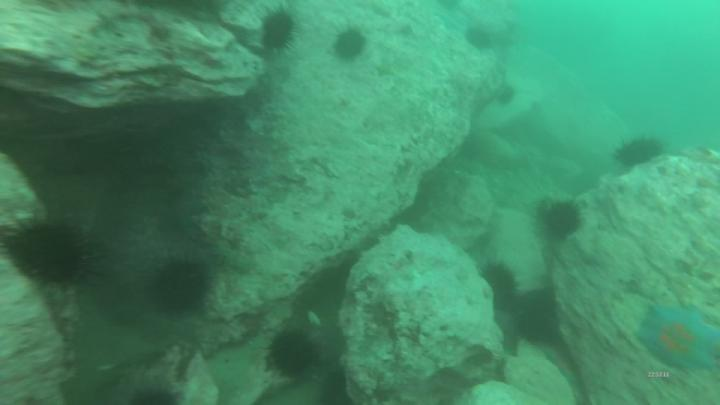echinus: (9, 226, 96, 281), (153, 262, 206, 312), (271, 333, 320, 377), (489, 263, 521, 306), (541, 201, 578, 237), (261, 15, 292, 51), (332, 28, 365, 61), (619, 140, 664, 164)
scallop: (308, 310, 325, 328)
starfish: (648, 302, 718, 371)
